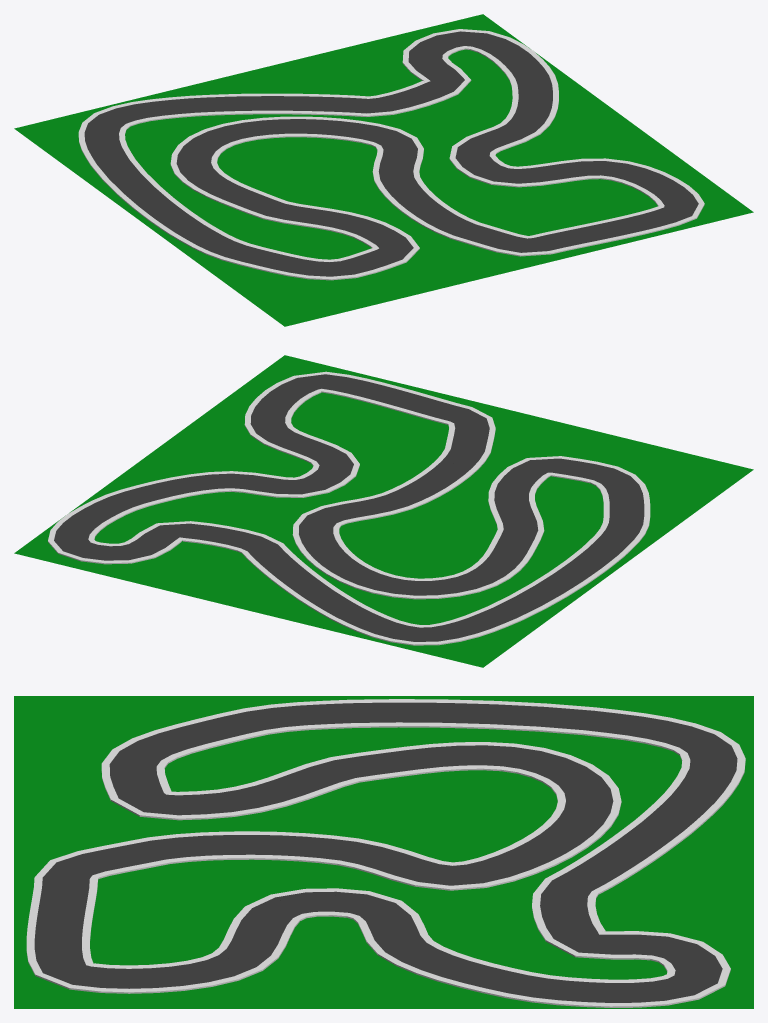
Rendered from track.fbx.
3 views of the same model, one above another, from view 1: azimuth 30°, elevation 25°; view 2: azimuth 150°, elevation 25°; view 3: azimuth 270°, elevation 25° (orthographic). The views are drawn at different scales.
Visible parts, largest first — view 1: Plane, Plane.002; view 2: Plane, Plane.002; view 3: Plane, Plane.002.
Part boxes in pixels (box(x1,y1,x2,y2)): Plane: box(14, 14, 753, 326); Plane.002: box(78, 29, 704, 280); Plane: box(14, 355, 753, 667); Plane.002: box(48, 371, 650, 645); Plane: box(14, 696, 753, 1008); Plane.002: box(26, 699, 745, 1007).
Bounding box in the file's own units: 4000 × 10 × 4000.
